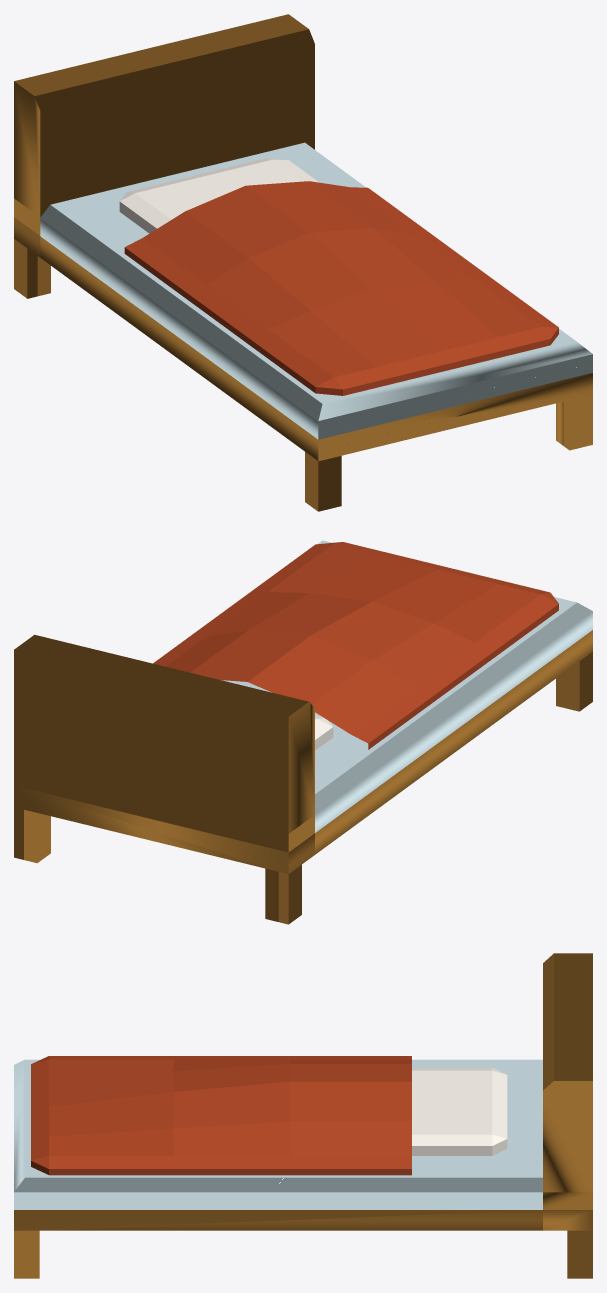
Rendered from Fullbed_v02.fbx.
3 views of the same model, one above another, from view 1: azimuth 30°, elevation 25°; view 2: azimuth 150°, elevation 25°; view 3: azimuth 270°, elevation 25° (orthographic). The views are drawn at different scales.
Visible parts, largest first — view 1: bed_frame, covers, Pillow_01; view 2: bed_frame, covers; view 3: bed_frame, covers, Pillow_01.
Part boxes in pixels (bbox=[...]): bed_frame: bbox=[14, 14, 592, 511]; covers: bbox=[124, 181, 558, 395]; Pillow_01: bbox=[119, 158, 318, 233]; bed_frame: bbox=[14, 540, 592, 924]; covers: bbox=[153, 542, 558, 749]; bed_frame: bbox=[14, 953, 592, 1278]; covers: bbox=[31, 1056, 411, 1175]; Pillow_01: bbox=[412, 1067, 507, 1155].
Bounding box in the file's own units: 154 × 111 × 296.
